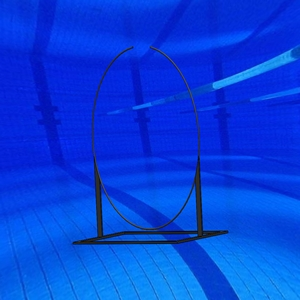circle: (72, 45, 228, 245)
